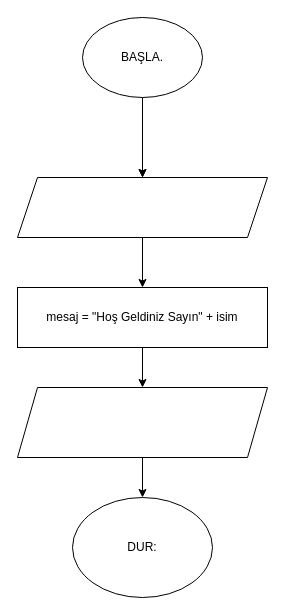
Some shapes in this 285 by 615 pixel diagram are drawn without their labels. The shapes that lost their labels are listed below. From the top down, each one's centre as x and y in pixels, then its label:
(x=142, y=207): kullanıcıdan "isim verisini al.
(x=142, y=422): Ekrana "mesaj" değişkenini yazdır.
